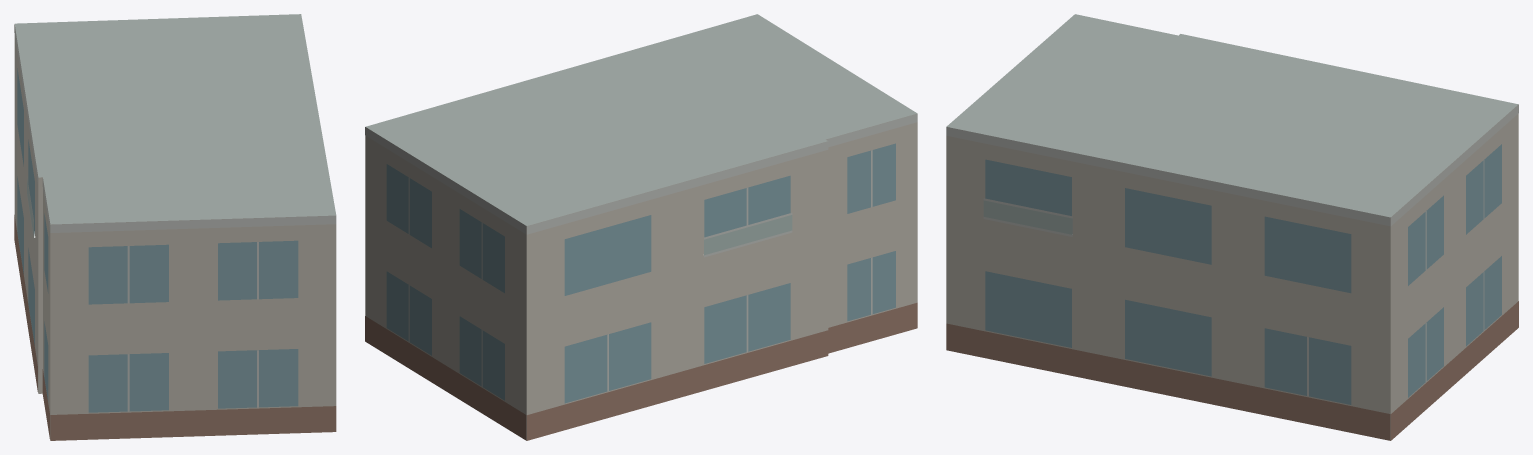
The model's file is survey-upis-32533848.glb.
The picture shows the model from 3 angles, left to right: view 1: azimuth 30°, elevation 25°; view 2: azimuth 150°, elevation 25°; view 3: azimuth 270°, elevation 25°; orthographic projection. The views are drawn at different scales.
Visible parts, largest first — view 1: survey-upis-32533848.tmp; view 2: survey-upis-32533848.tmp; view 3: survey-upis-32533848.tmp.
Boxes of the visible parts, x1,y1,x2,y2 form: survey-upis-32533848.tmp: (14,14,336,440); survey-upis-32533848.tmp: (365,14,917,440); survey-upis-32533848.tmp: (946,14,1518,440).
Bounding box in the file's own units: 11.92 × 6.1 × 14.17.
